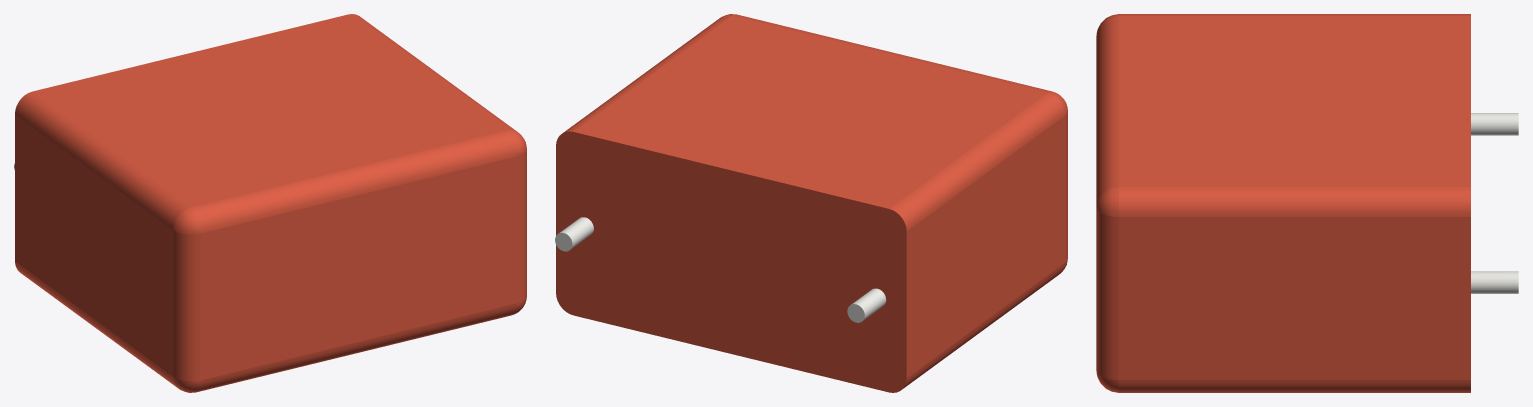
The model's file is C_Rect_L18.0mm_W9.0mm_P15.00mm_FKS3_FKP3.glb.
3 renders of one model, left to right at view 1: azimuth 30°, elevation 25°; view 2: azimuth 150°, elevation 25°; view 3: azimuth 270°, elevation 25°, orthographic. The views are drawn at different scales.
Visible parts, largest first — view 1: Shape_IndexedFaceSet.009, Shape_IndexedFaceSet.007, Shape_IndexedFaceSet, Shape_IndexedFaceSet.017, Shape_IndexedFaceSet.004, Shape_IndexedFaceSet.002, Shape_IndexedFaceSet.015, Shape_IndexedFaceSet.016, Shape_IndexedFaceSet.001, Shape_IndexedFaceSet.011, Shape_IndexedFaceSet.008; view 2: Shape_IndexedFaceSet.003, Shape_IndexedFaceSet.009, Shape_IndexedFaceSet, Shape_IndexedFaceSet.004, Shape_IndexedFaceSet.001, Shape_IndexedFaceSet.011, Shape_IndexedFaceSet.017, Shape_IndexedFaceSet.013, Shape_IndexedFaceSet.014, Shape_IndexedFaceSet.002; view 3: Shape_IndexedFaceSet.009, Shape_IndexedFaceSet.012, Shape_IndexedFaceSet.011, Shape_IndexedFaceSet.010, Shape_IndexedFaceSet.017, Shape_IndexedFaceSet.016, Shape_IndexedFaceSet.013, Shape_IndexedFaceSet.014, Shape_IndexedFaceSet.004, Shape_IndexedFaceSet.019.
Part boxes in pixels (x1=…): Shape_IndexedFaceSet.009: x1=33, y1=14, x2=506, y2=207; Shape_IndexedFaceSet.007: x1=201, y1=156, x2=516, y2=379; Shape_IndexedFaceSet: x1=15, y1=114, x2=173, y2=376; Shape_IndexedFaceSet.017: x1=191, y1=130, x2=516, y2=233; Shape_IndexedFaceSet.004: x1=15, y1=91, x2=190, y2=229; Shape_IndexedFaceSet.002: x1=173, y1=230, x2=201, y2=381; Shape_IndexedFaceSet.015: x1=197, y1=303, x2=516, y2=391; Shape_IndexedFaceSet.016: x1=517, y1=150, x2=526, y2=302; Shape_IndexedFaceSet.001: x1=15, y1=261, x2=178, y2=388; Shape_IndexedFaceSet.011: x1=348, y1=14, x2=516, y2=131; Shape_IndexedFaceSet.008: x1=173, y1=208, x2=201, y2=234; Shape_IndexedFaceSet.003: x1=556, y1=131, x2=906, y2=392; Shape_IndexedFaceSet.009: x1=574, y1=16, x2=1047, y2=208; Shape_IndexedFaceSet: x1=906, y1=116, x2=1065, y2=377; Shape_IndexedFaceSet.004: x1=889, y1=93, x2=1065, y2=231; Shape_IndexedFaceSet.001: x1=903, y1=262, x2=1065, y2=388; Shape_IndexedFaceSet.011: x1=563, y1=15, x2=731, y2=132; Shape_IndexedFaceSet.017: x1=732, y1=14, x2=1051, y2=92; Shape_IndexedFaceSet.013: x1=851, y1=288, x2=886, y2=320; Shape_IndexedFaceSet.014: x1=559, y1=217, x2=593, y2=248; Shape_IndexedFaceSet.002: x1=1065, y1=112, x2=1067, y2=261; Shape_IndexedFaceSet.009: x1=1119, y1=16, x2=1470, y2=186; Shape_IndexedFaceSet.012: x1=1119, y1=217, x2=1470, y2=379; Shape_IndexedFaceSet.011: x1=1119, y1=187, x2=1470, y2=216; Shape_IndexedFaceSet.010: x1=1119, y1=380, x2=1470, y2=392; Shape_IndexedFaceSet.017: x1=1096, y1=16, x2=1118, y2=206; Shape_IndexedFaceSet.016: x1=1096, y1=208, x2=1118, y2=379; Shape_IndexedFaceSet.013: x1=1471, y1=113, x2=1518, y2=135; Shape_IndexedFaceSet.014: x1=1471, y1=271, x2=1518, y2=293; Shape_IndexedFaceSet.004: x1=1119, y1=14, x2=1470, y2=15; Shape_IndexedFaceSet.019: x1=1096, y1=187, x2=1118, y2=216.
Size of the model in its own units: 7.09 by 3.54 by 6.65.
